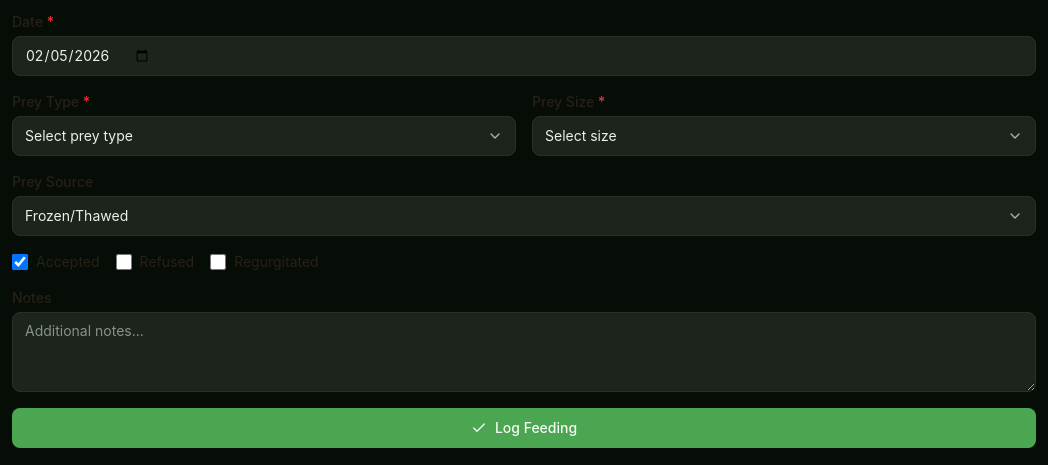
Scenario: FeedingForm › prey options › should display all prey source options
This screenshot has width=1048, height=465.
Click the dropdown labelled "Frozen/Thawed": (77, 216) top-left (12, 196), bottom-right (1036, 236)
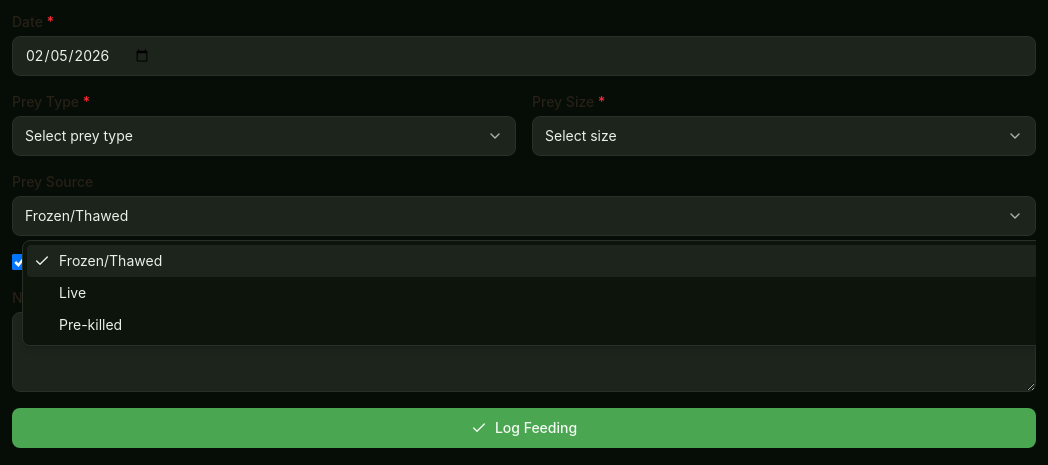
Now the option "Live" is shown, box top-left (59, 284), bottom-right (86, 301)
Now the option "Pre-killed" is shown, box top-left (59, 316), bottom-right (122, 333)
